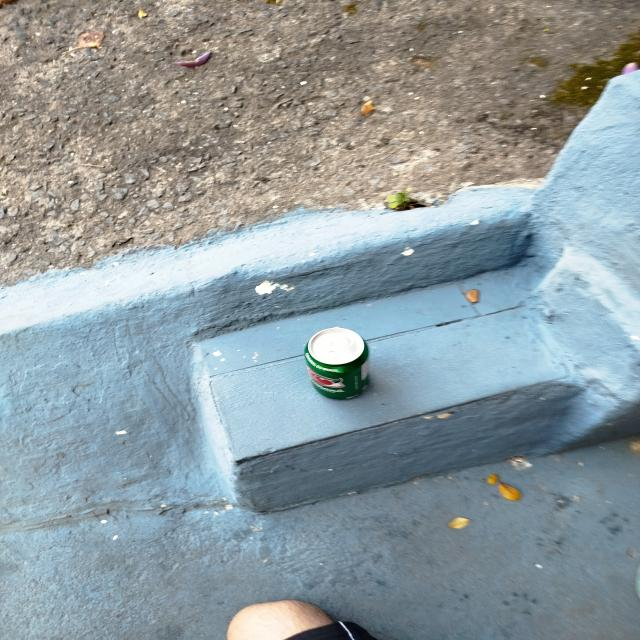Guarana: (302, 326, 374, 402)
